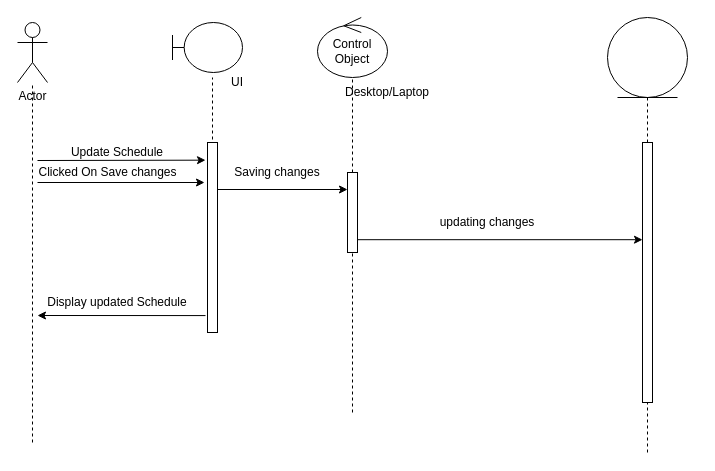
The diagram is 715 pixels wide and 471 high, and some of its shapes have lost their labels. The shapes that lost their labels are listed below. From the top down, each one's centre as x and y in pixels, then its label:
the point at 207,47: Boundary Object
the point at 647,57: Local Storage
